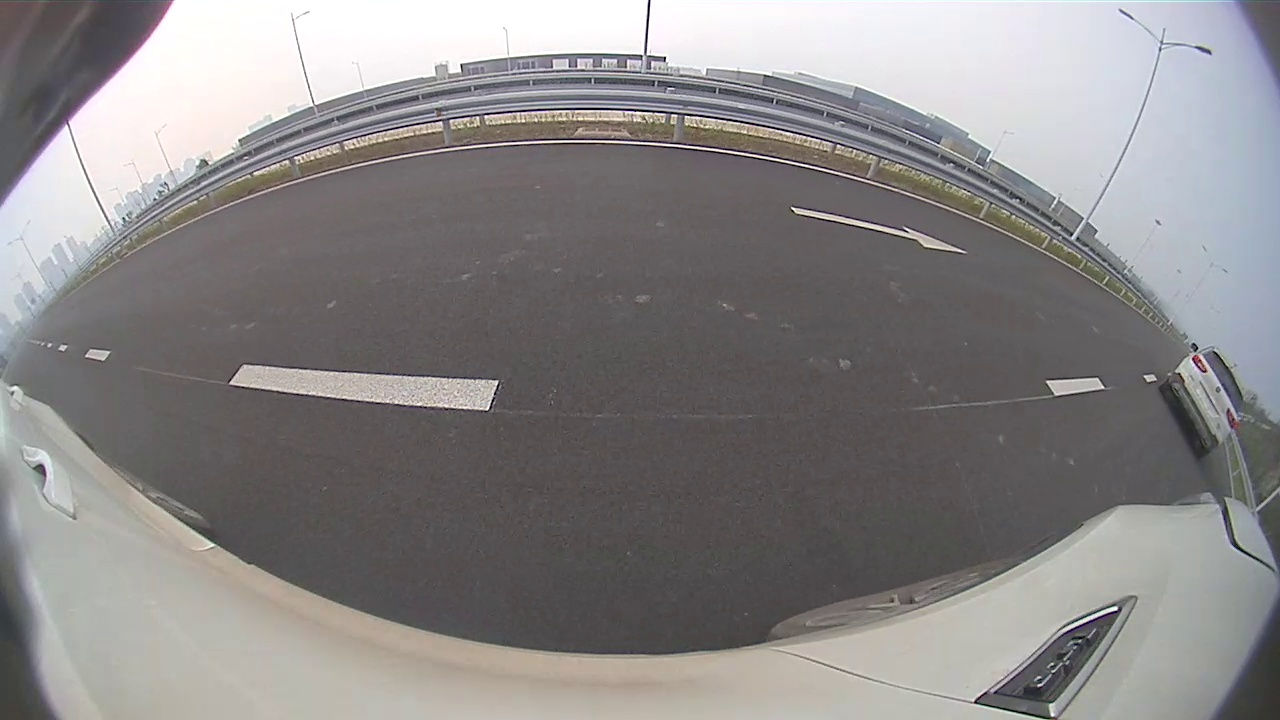car: (1157, 342, 1245, 460)
